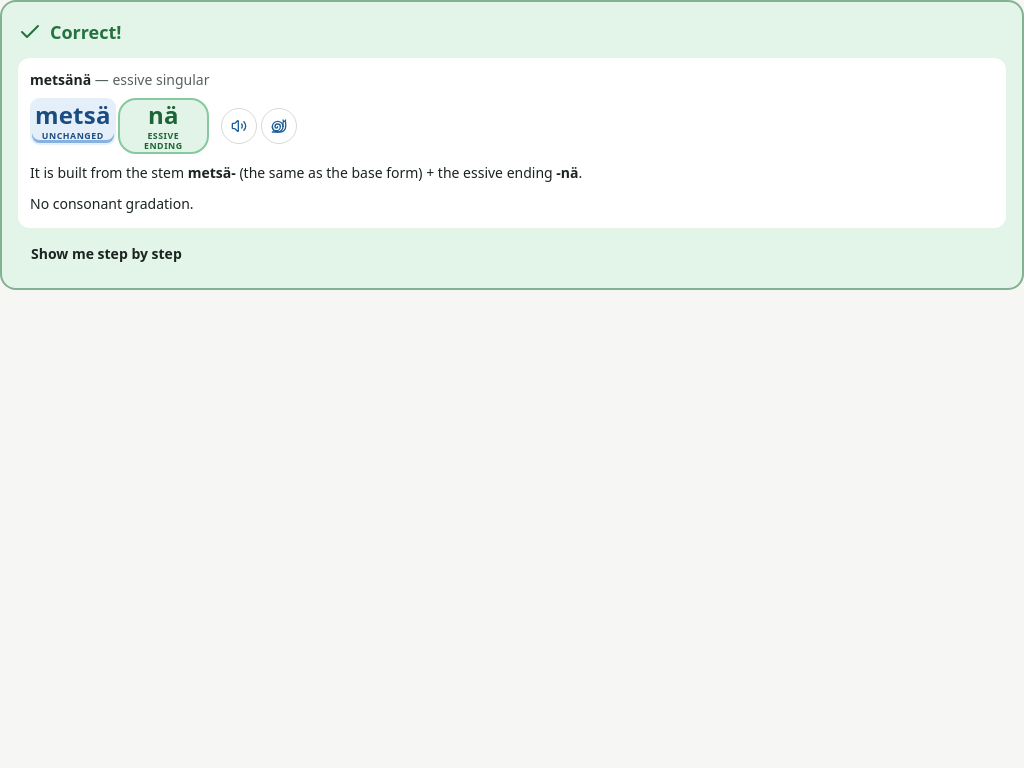
Test: practice feedback for metsänä (identify number and case) › "Show me step by step" opens the explanation of metsänä, not of the label
Click the button "Show me step by step": {"x": 106, "y": 254} [18, 236, 195, 272]
(page scrolled)
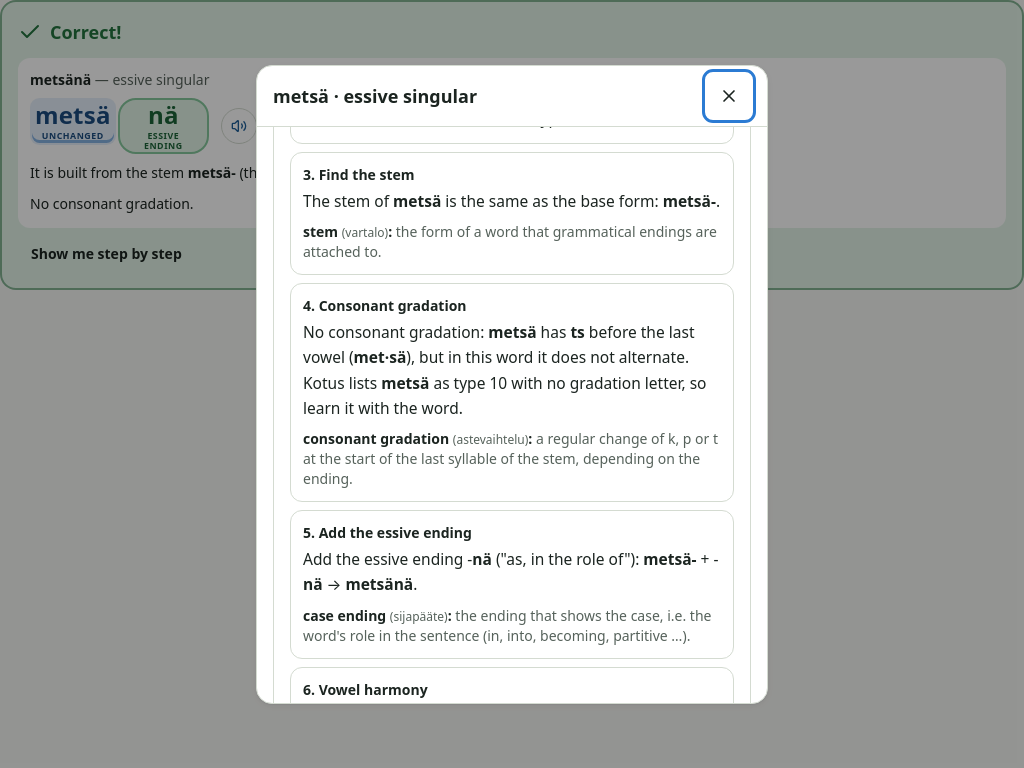
Expected: the list named "How the form is built" shows "No consonant gradation", [303, 321, 488, 343]
